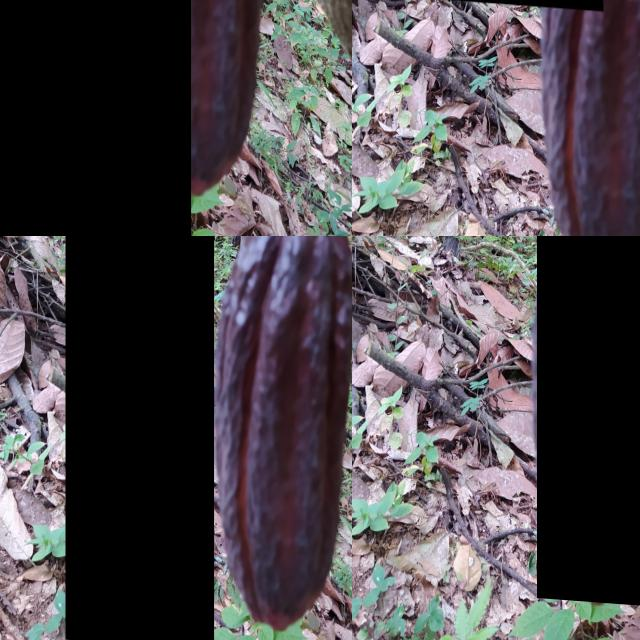Fitoftora: (0, 0, 191, 236)
Monilia: (65, 236, 214, 640)
Sana: (536, 236, 640, 602)
